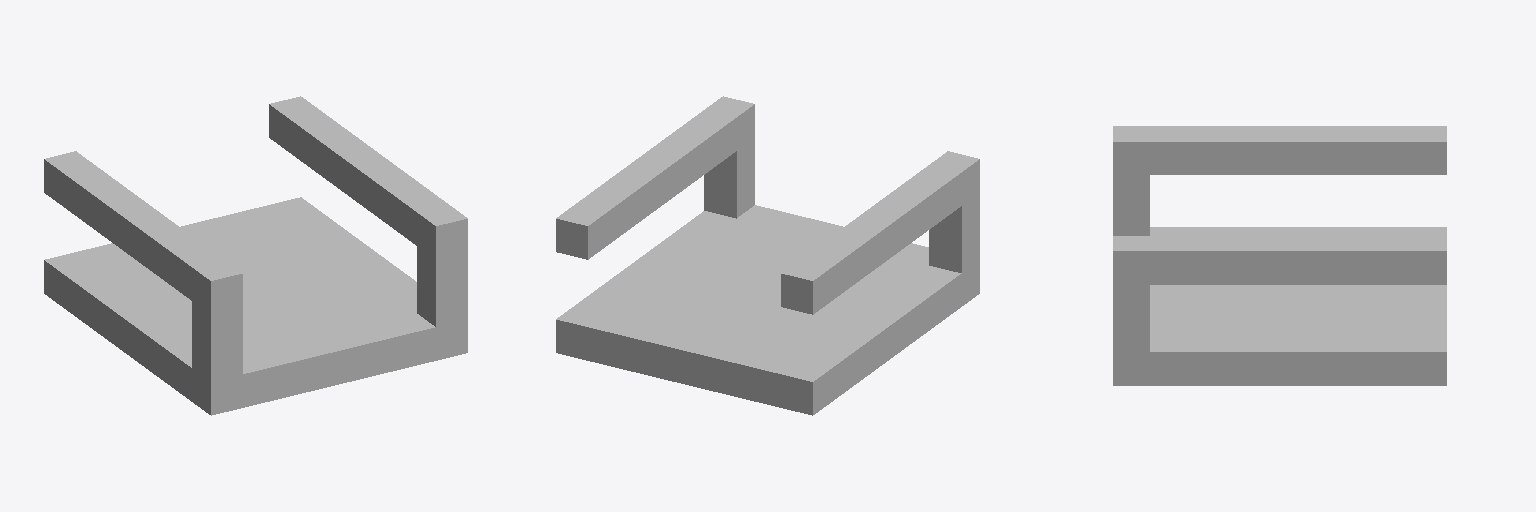
Rendered from 04_cave_03_smallbridge_segment_2X.obj.
3 views of the same model, side by side, from view 1: azimuth 30°, elevation 25°; view 2: azimuth 150°, elevation 25°; view 3: azimuth 270°, elevation 25° (orthographic).
Bounding box in the file's own units: 8 × 4 × 9.